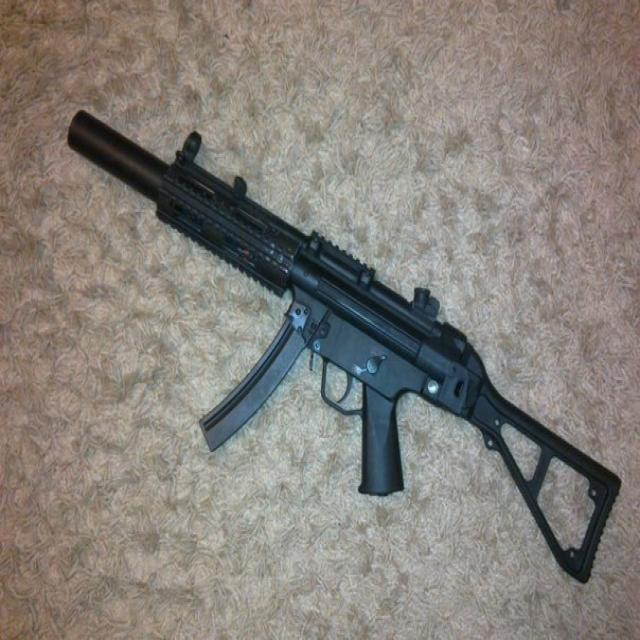firearm: (67, 106, 622, 584)
